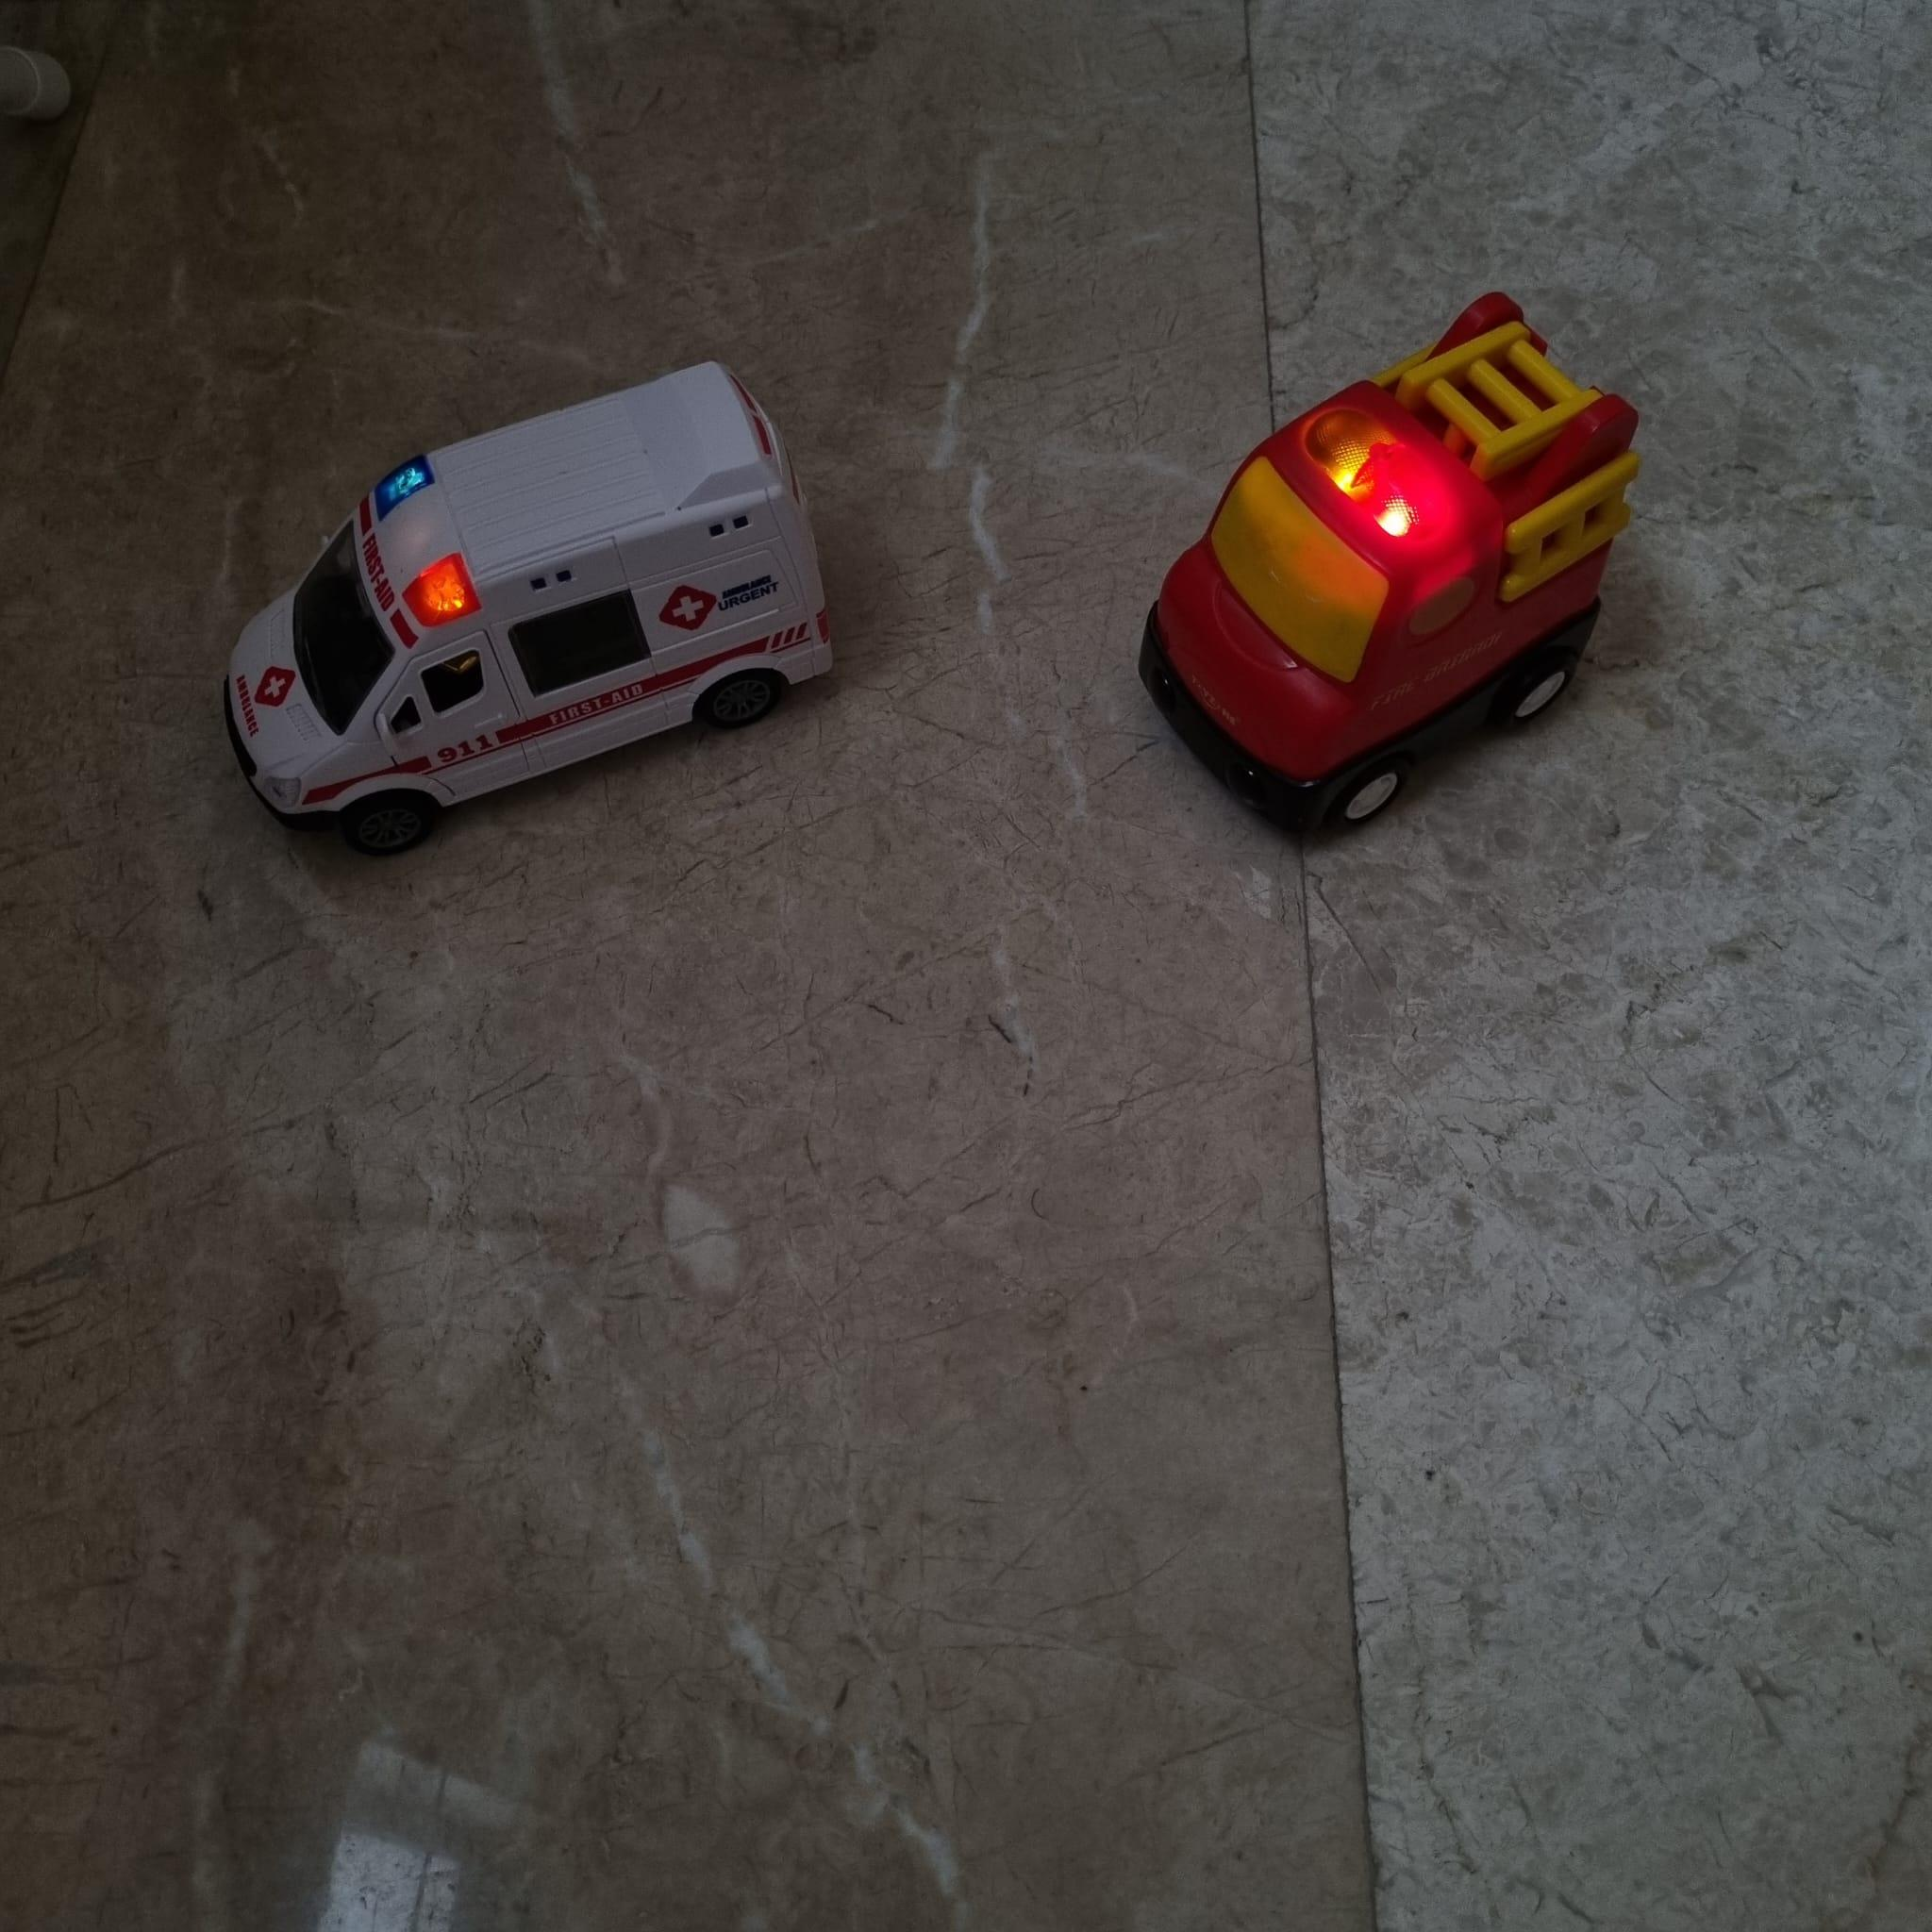ambulance_on: (223, 361, 832, 858)
firetruck_on: (1139, 292, 1640, 844)
